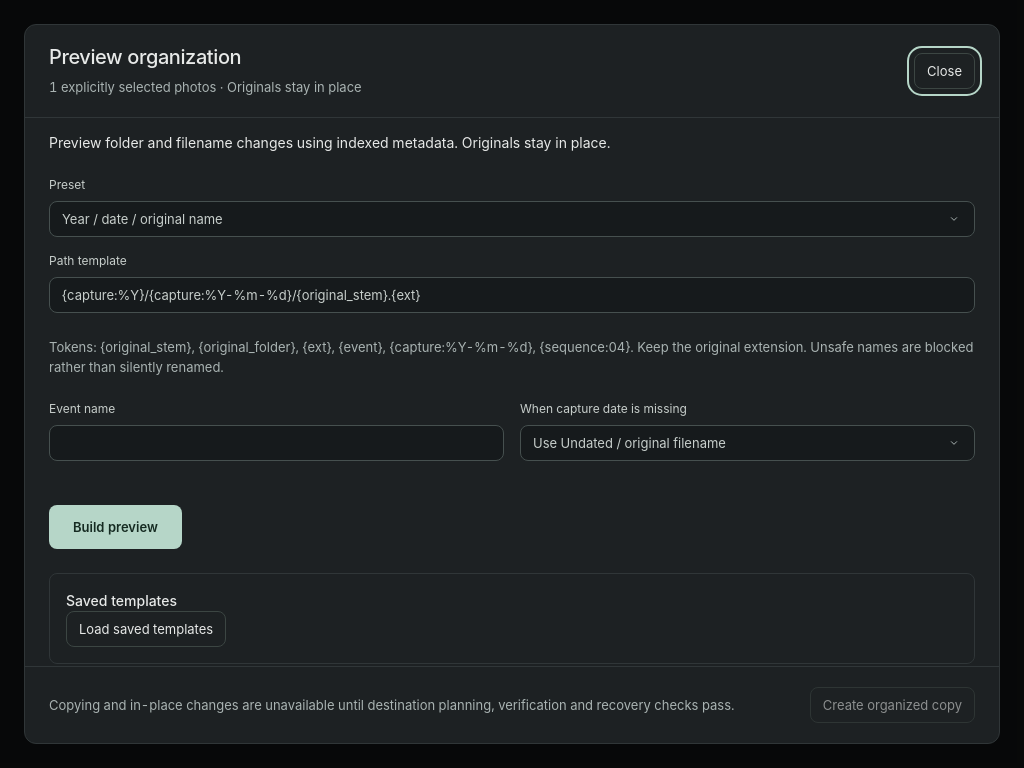
Test: shows blocked collision participants without suppressing their exact proposed targets
The width and height of the screenshot is (1024, 768).
Click the button "Build preview" at {"x": 115, "y": 527}, box x1=49 y1=505 x2=182 y2=549
(page scrolled)
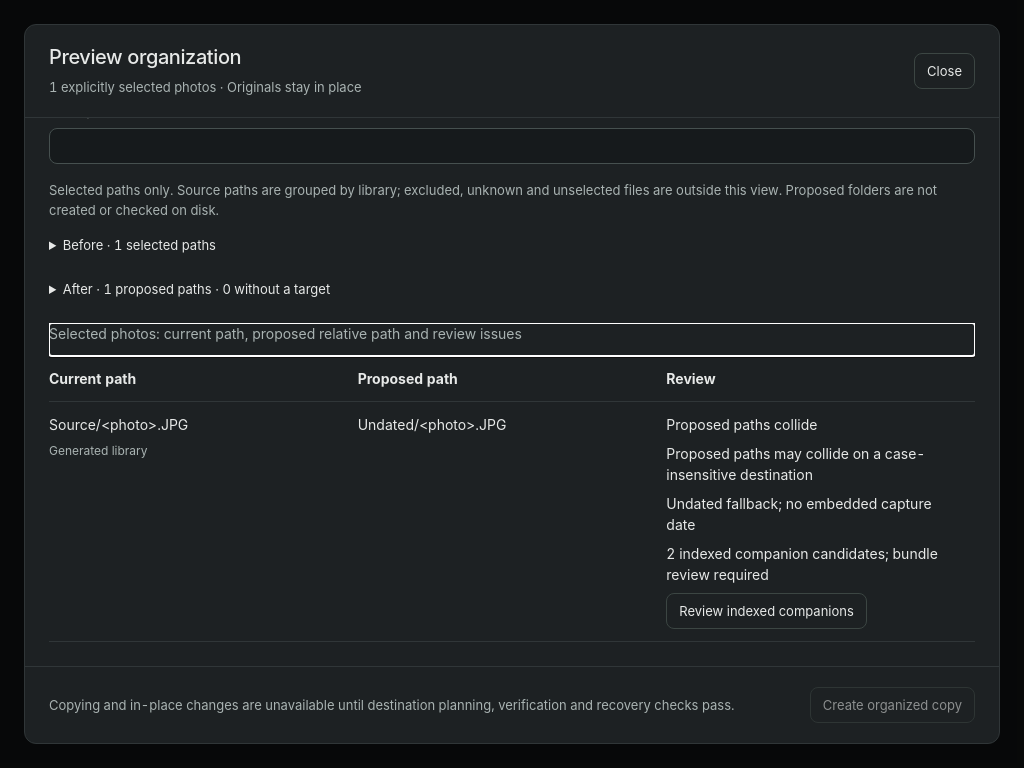
Expected: the text "Proposed paths collide" is shown, x1=666 y1=416 x2=817 y2=433
Expected: the text "Proposed paths may collide on a case-insensitive destination" is shown, x1=666 y1=443 x2=959 y2=485
Expected: the text "Undated/<photo>.JPG" is shown, x1=358 y1=416 x2=506 y2=433
